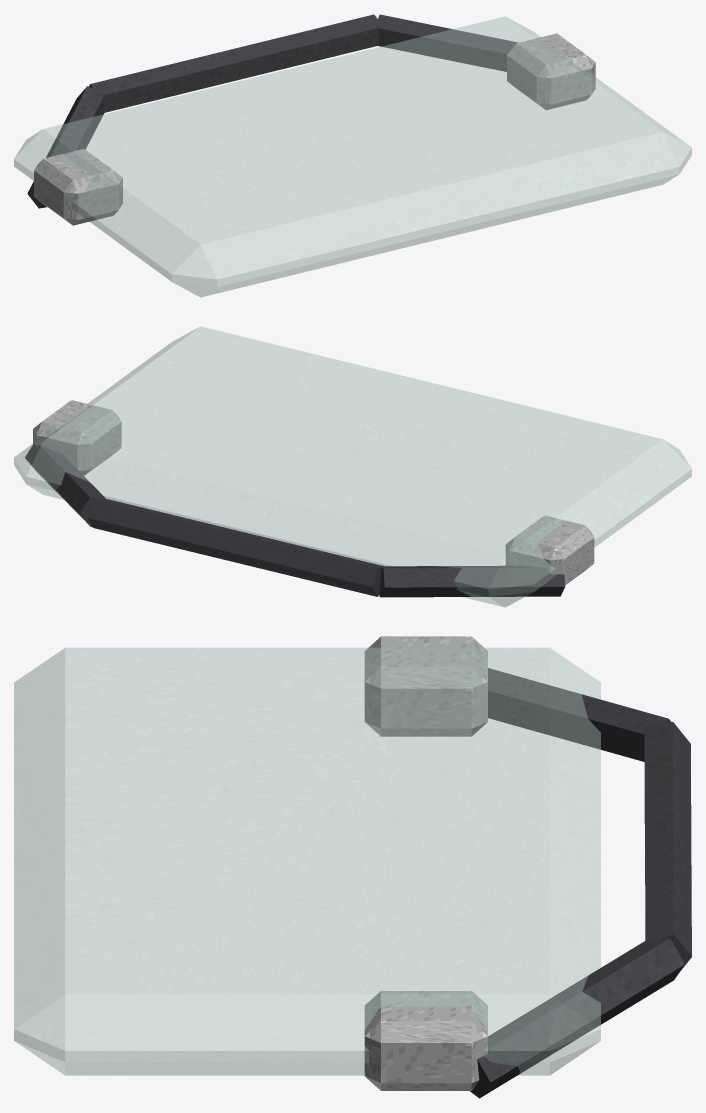
The model's file is shield_visor.glb.
The picture shows the model from 3 angles, top to bottom: view 1: azimuth 30°, elevation 25°; view 2: azimuth 150°, elevation 25°; view 3: azimuth 270°, elevation 25°; orthographic projection. The views are drawn at different scales.
Visible parts, largest first — view 1: block_short curved visor, block_side clip (×2), block_mounting rim 1, block_mounting rim 2, block_mounting rim 0; view 2: block_short curved visor, block_mounting rim 1, block_side clip (×2), block_mounting rim 0, block_mounting rim 2; view 3: block_short curved visor, block_side clip (×2), block_mounting rim 2, block_mounting rim 1, block_mounting rim 0.
Boxes of the visible parts, x1,y1,x2,y2 form: block_short curved visor: (14, 16, 691, 297); block_side clip (×2): (34, 33, 595, 225); block_mounting rim 1: (89, 14, 381, 112); block_mounting rim 2: (377, 14, 517, 71); block_mounting rim 0: (27, 86, 104, 208); block_short curved visor: (14, 326, 691, 607); block_mounting rim 1: (87, 498, 384, 596); block_side clip (×2): (33, 400, 594, 585); block_mounting rim 0: (379, 565, 565, 597); block_mounting rim 2: (25, 443, 105, 527); block_short curved visor: (14, 647, 600, 1075); block_side clip (×2): (364, 636, 487, 1090); block_mounting rim 2: (470, 938, 684, 1098); block_mounting rim 1: (644, 722, 691, 970); block_mounting rim 0: (488, 668, 671, 761).
Size of the model in its own units: 0.1334 by 0.0127 by 0.0948.
2 materials, 2 textured.
